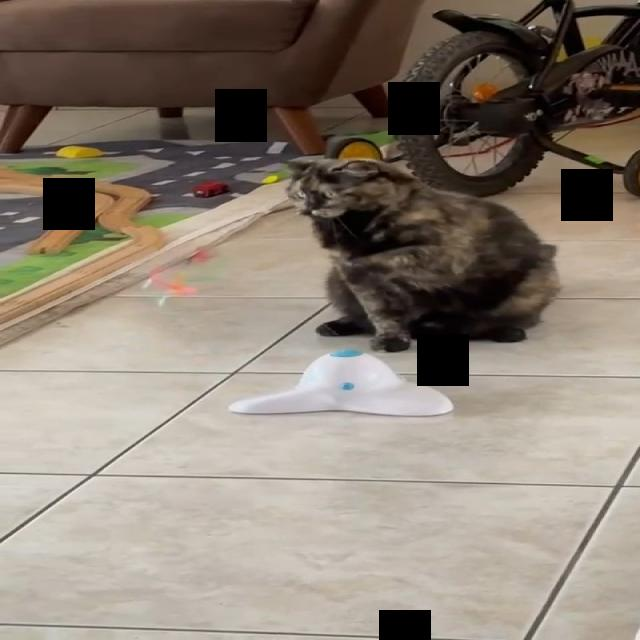authorized: (282, 155, 562, 352)
